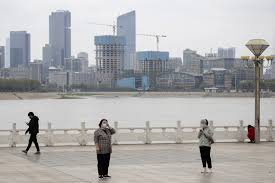Good: (93, 117, 216, 179), (21, 111, 117, 179)
